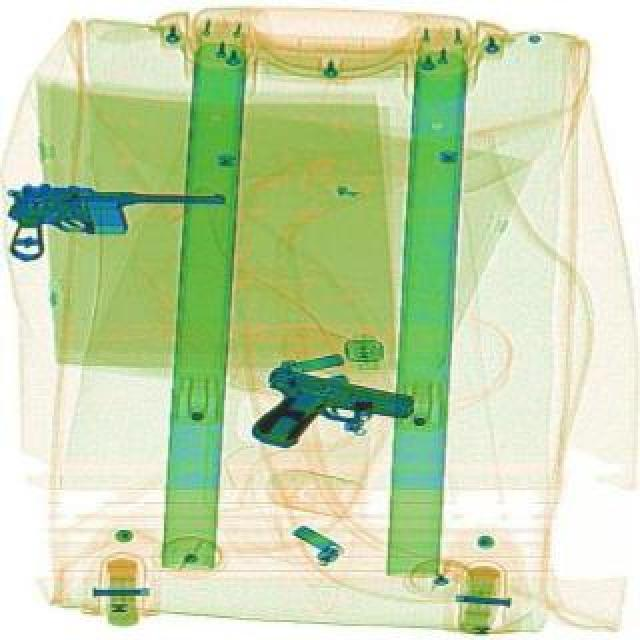gun: (2, 180, 226, 264), (246, 364, 418, 472)
